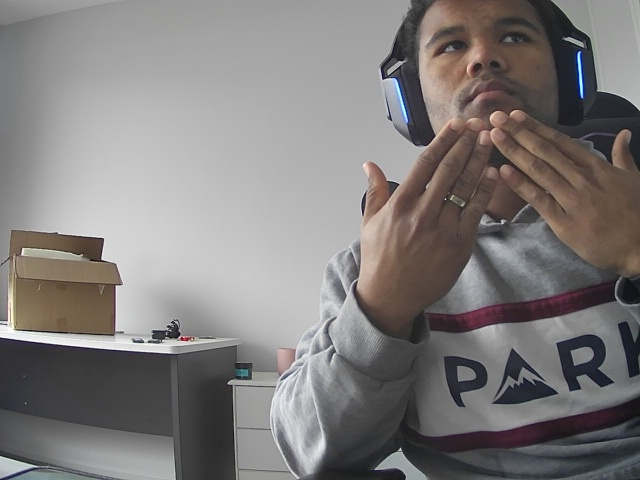ThankYou: (322, 91, 640, 300)
